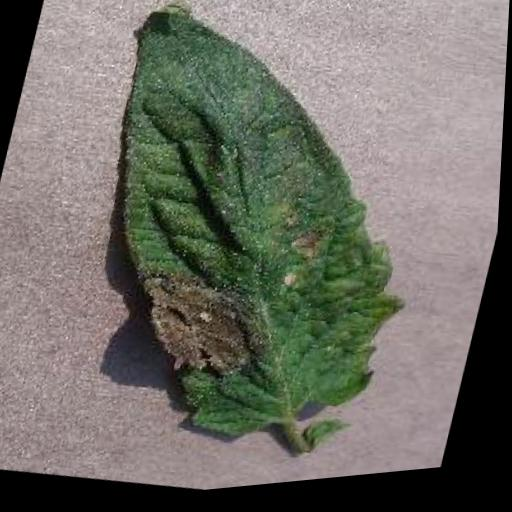Late Blight: (45, 0, 473, 487)
